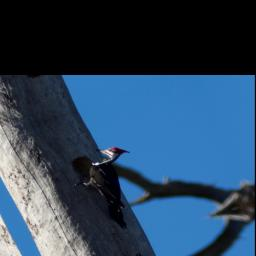Woodpecker: (58, 140, 164, 238)
